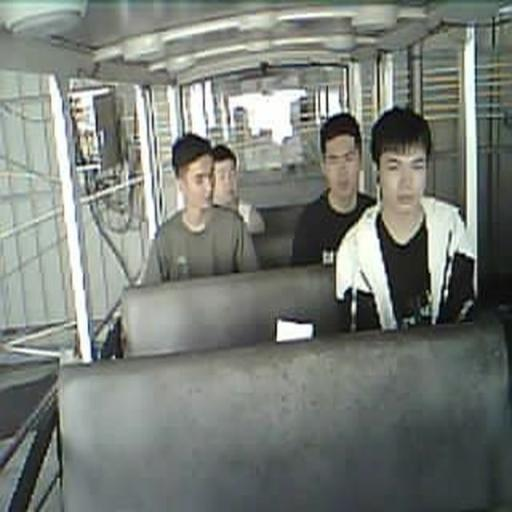persona: (334, 105, 478, 333), (140, 133, 260, 284), (290, 112, 377, 267), (210, 144, 266, 236)
